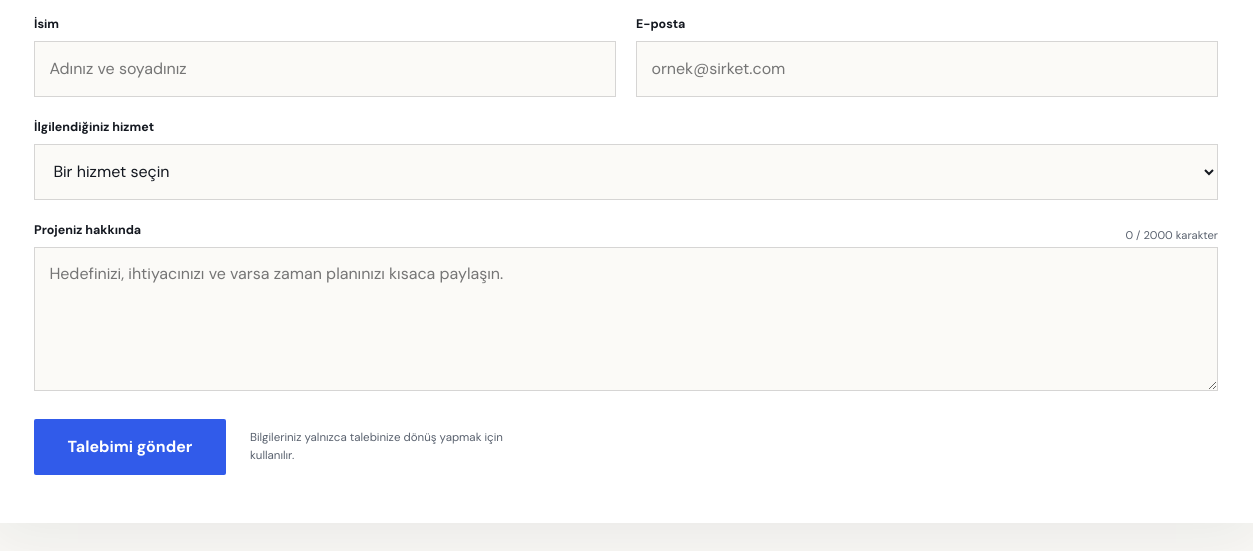
LeadForm › shows success only after the API confirms persistence
In the field with id "name": (325, 69) [34, 41, 616, 97], type "Ada Lovelace"
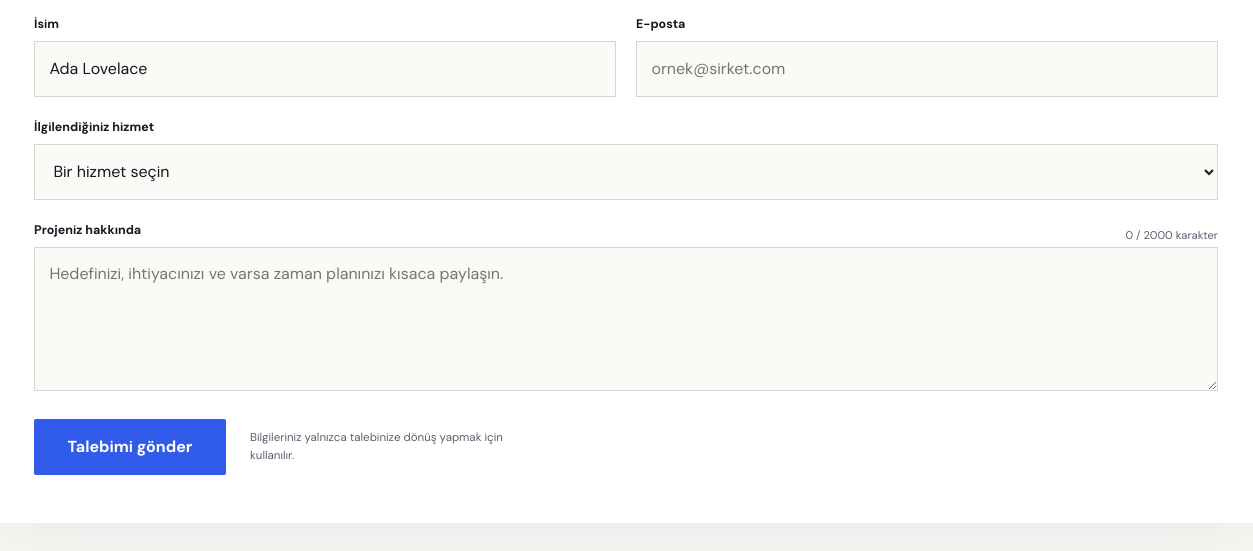
In the field with id "email": (927, 69) [636, 41, 1218, 97], type "ada@example.com"
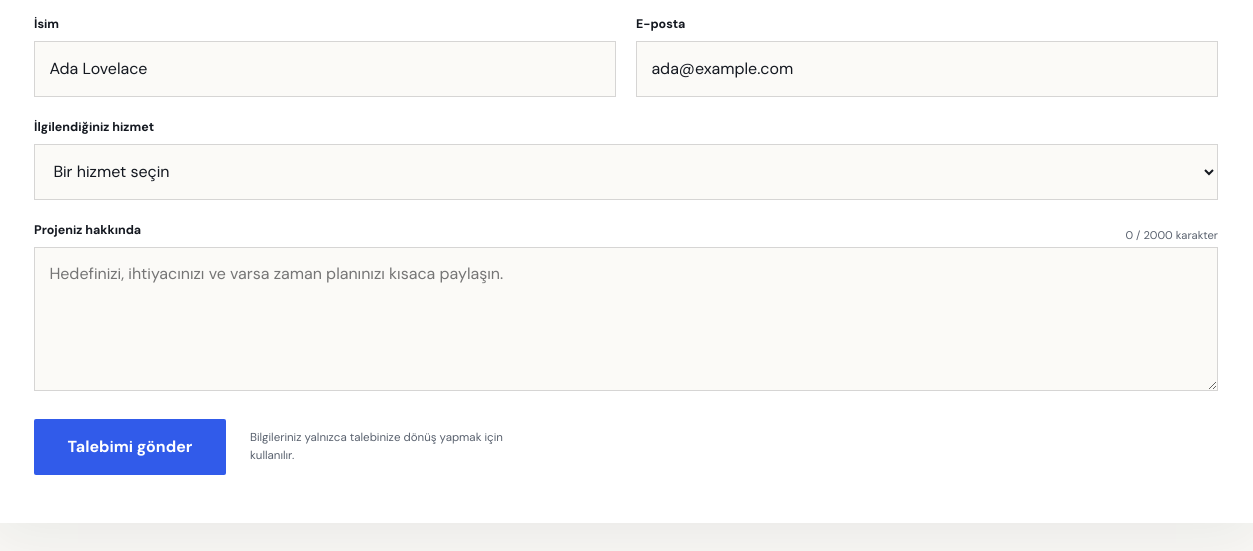
Select "Yazılım geliştirme" in the dropdown with id "service": (626, 172) [34, 144, 1218, 200]
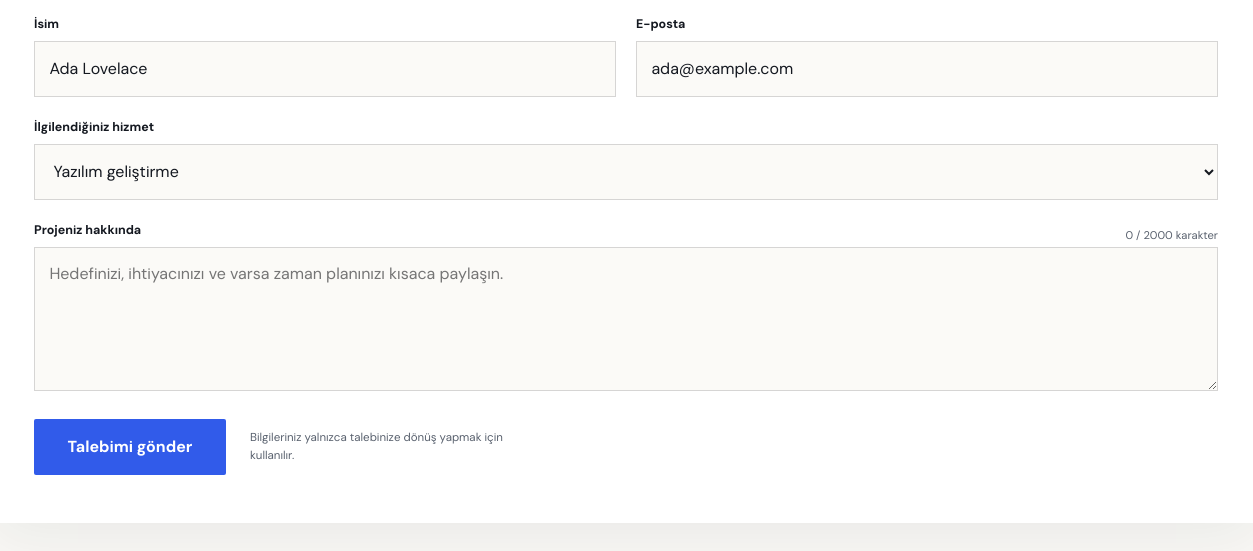
Replace the text in the text box with id "description" with "Yeni bir web uygulaması geliştirmek istiyorum.": (626, 319) [34, 247, 1218, 391]
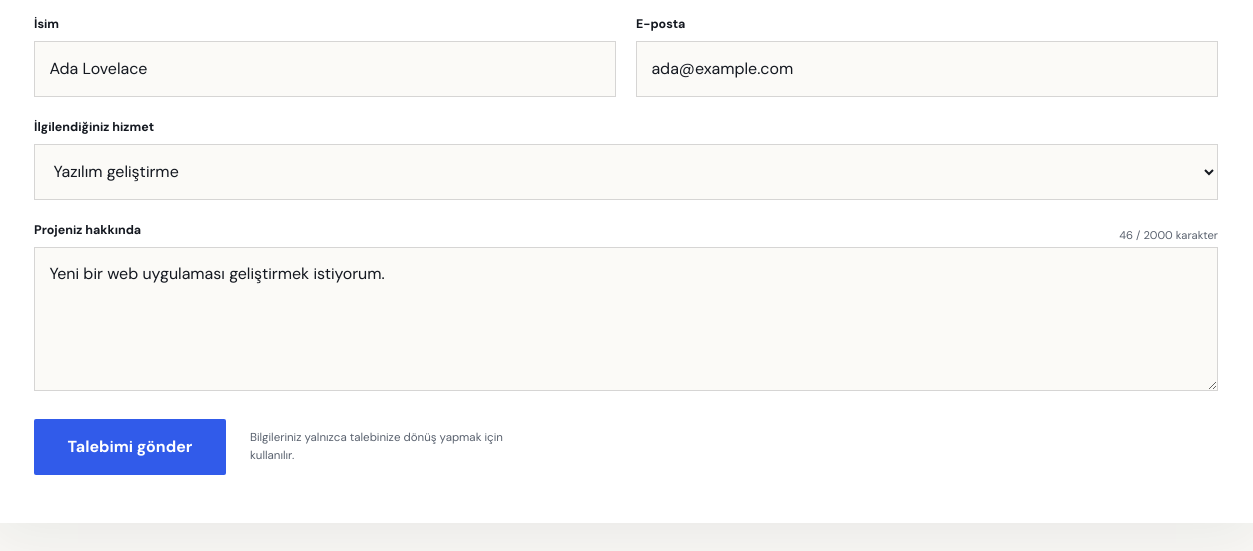
Submit the form
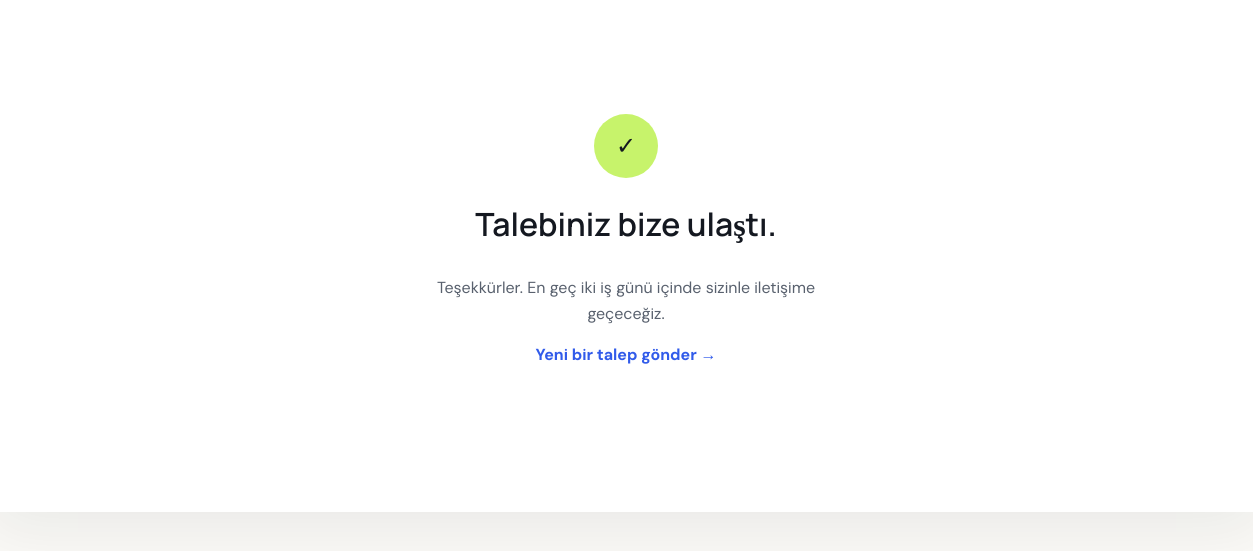
expect the text "Talebiniz bize ulaştı." is shown: met, box [475, 202, 777, 246]
